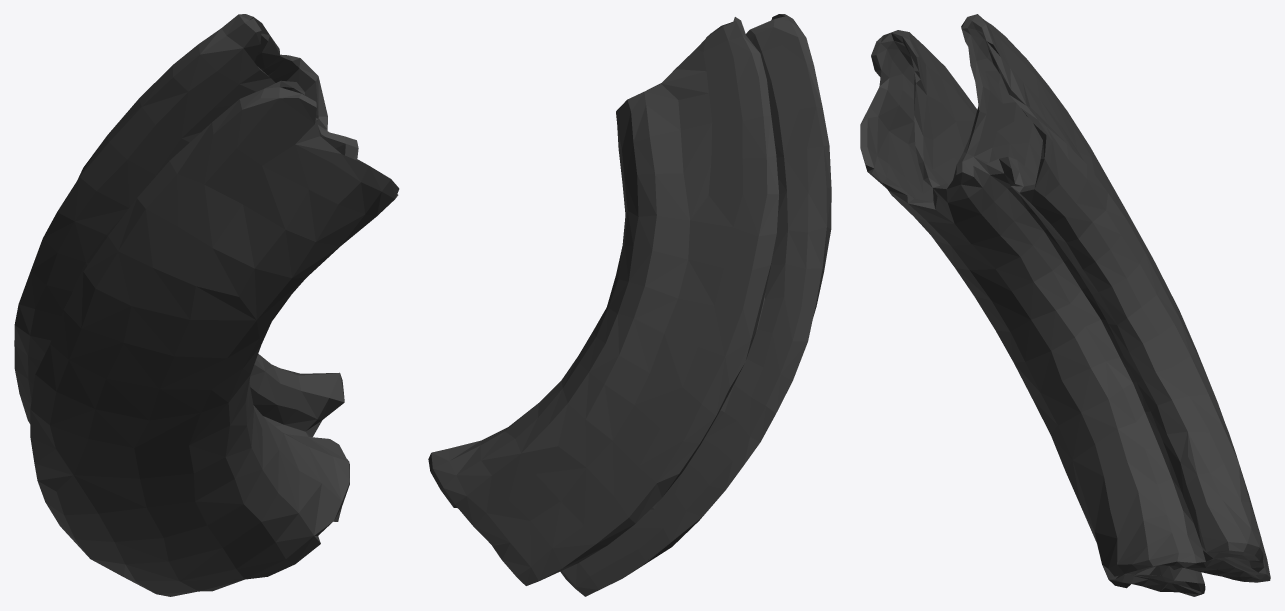
File: Upper_M1_1.glb
3 views of the same model, side by side, from view 1: azimuth 30°, elevation 25°; view 2: azimuth 150°, elevation 25°; view 3: azimuth 270°, elevation 25° (orthographic). The views are drawn at different scales.
Visible parts, largest first — view 1: Upper_M1_1; view 2: Upper_M1_1; view 3: Upper_M1_1.
Part boxes in pixels (left/top/right/bottom): Upper_M1_1: left=14, top=14, right=399, bottom=596; Upper_M1_1: left=428, top=14, right=831, bottom=596; Upper_M1_1: left=860, top=14, right=1270, bottom=596.
Size of the model in its own units: 0.5837 by 0.9446 by 0.6316.
Materials: 1 (1 with a texture image).
